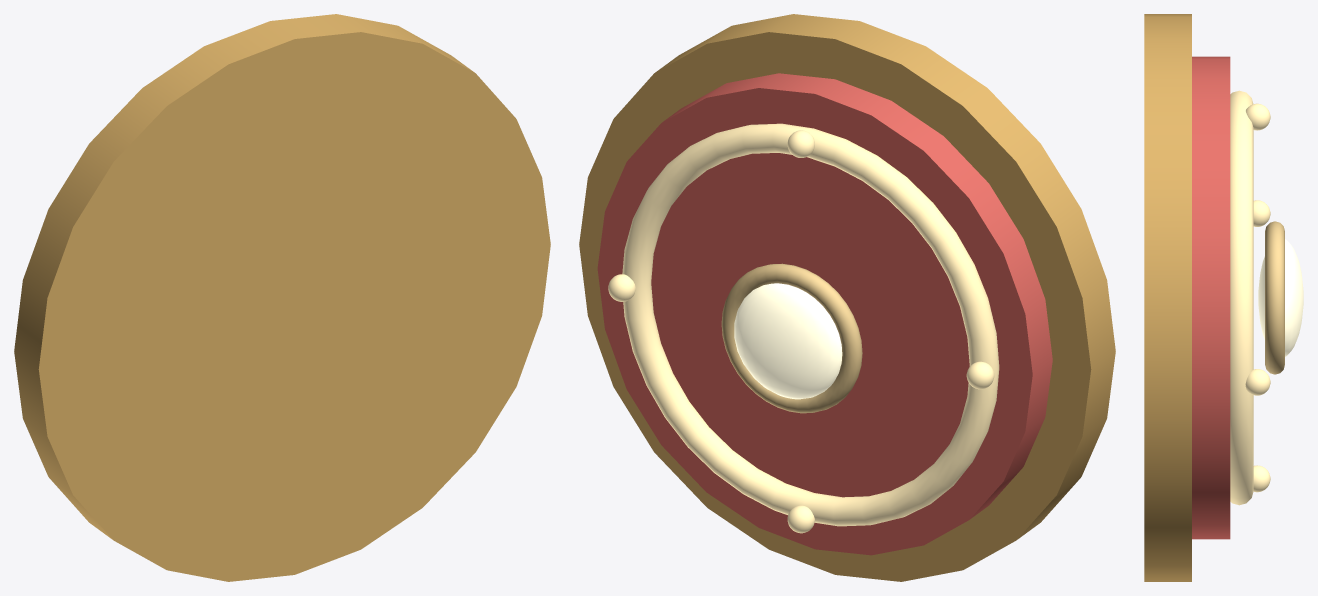
Rendered from shield.glb.
3 renders of one model, left to right at view 1: azimuth 30°, elevation 25°; view 2: azimuth 150°, elevation 25°; view 3: azimuth 270°, elevation 25°, orthographic. The views are drawn at different scales.
Visible parts, largest first — view 1: GoldRim; view 2: DomedEnamel, GoldRim, InnerFillet, EnamelGem, GoldBezel; view 3: GoldRim, DomedEnamel, InnerFillet, GoldBezel, EnamelGem, Stud, _MeshInstance3D_2, _MeshInstance3D_4, _MeshInstance3D_3.
Part boxes in pixels (x1=…): GoldRim: x1=14, y1=14, x2=550, y2=581; DomedEnamel: x1=597, y1=73, x2=1052, y2=555; GoldRim: x1=579, y1=14, x2=1115, y2=581; InnerFillet: x1=622, y1=123, x2=999, y2=526; EnamelGem: x1=734, y1=283, x2=842, y2=399; GoldBezel: x1=721, y1=263, x2=862, y2=413; GoldRim: x1=1144, y1=14, x2=1191, y2=581; DomedEnamel: x1=1192, y1=56, x2=1230, y2=539; InnerFillet: x1=1230, y1=90, x2=1253, y2=505; GoldBezel: x1=1265, y1=221, x2=1284, y2=374; EnamelGem: x1=1258, y1=239, x2=1303, y2=356; Stud: x1=1245, y1=369, x2=1270, y2=395; _MeshInstance3D_2: x1=1246, y1=103, x2=1270, y2=130; _MeshInstance3D_4: x1=1253, y1=465, x2=1270, y2=492; _MeshInstance3D_3: x1=1253, y1=200, x2=1270, y2=226.
Bounding box in the file's own units: 0.096 × 0.096 × 0.0268.
